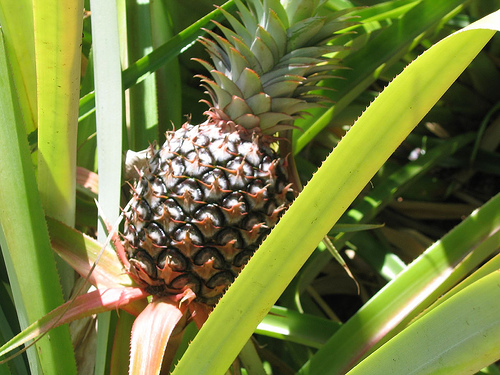pineapple: (119, 0, 360, 300)
